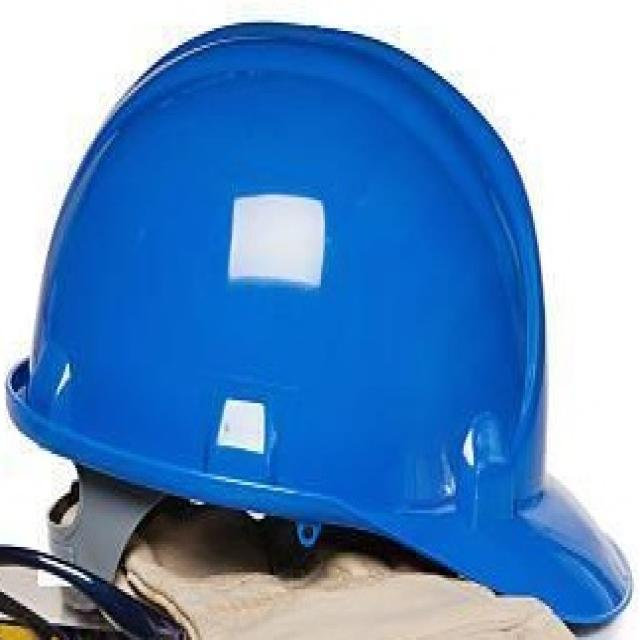helmet: (8, 24, 630, 626)
